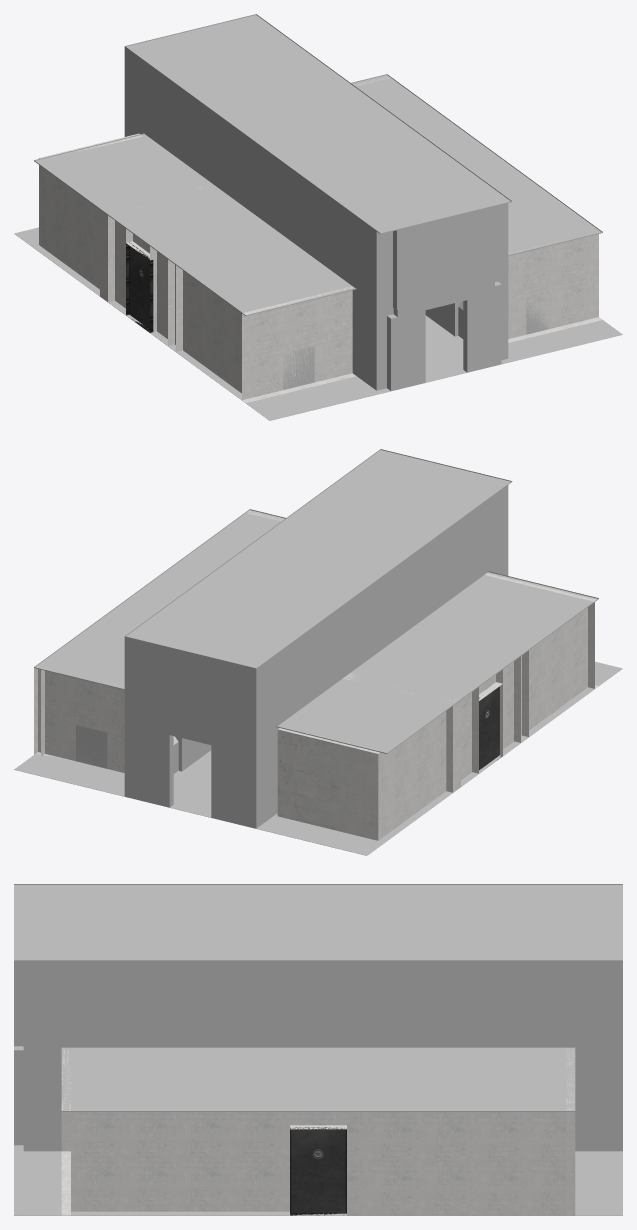
Rendered from LC_cont2_scps.obj.
3 renders of one model, top to bottom at view 1: azimuth 30°, elevation 25°; view 2: azimuth 150°, elevation 25°; view 3: azimuth 270°, elevation 25°, orthographic. The views are drawn at different scales.
Visible parts, largest first — view 1: LC_cont2_scps; view 2: LC_cont2_scps; view 3: LC_cont2_scps.
Part boxes in pixels (<box>): LC_cont2_scps: <box>14,14,622,420</box>; LC_cont2_scps: <box>14,449,622,855</box>; LC_cont2_scps: <box>14,884,622,1215</box>.
Bounding box in the file's own units: 16.32 × 7.09 × 20.48.
